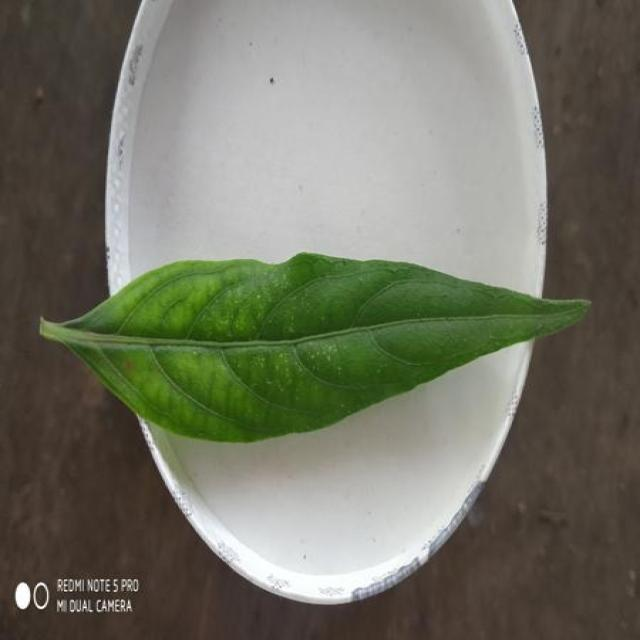Nelavembu: (40, 252, 588, 442)
